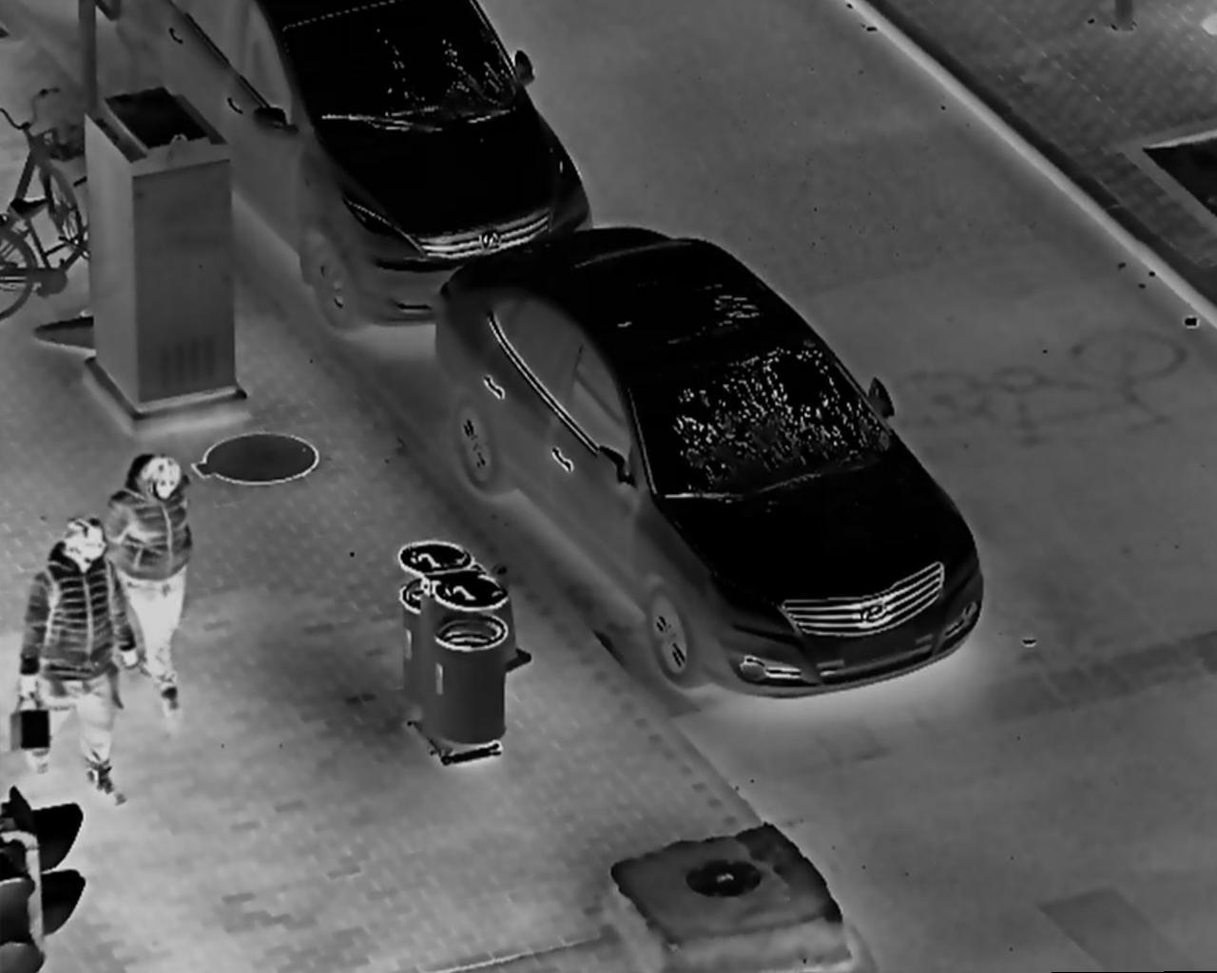person: (15, 514, 140, 811), (102, 448, 206, 730)
